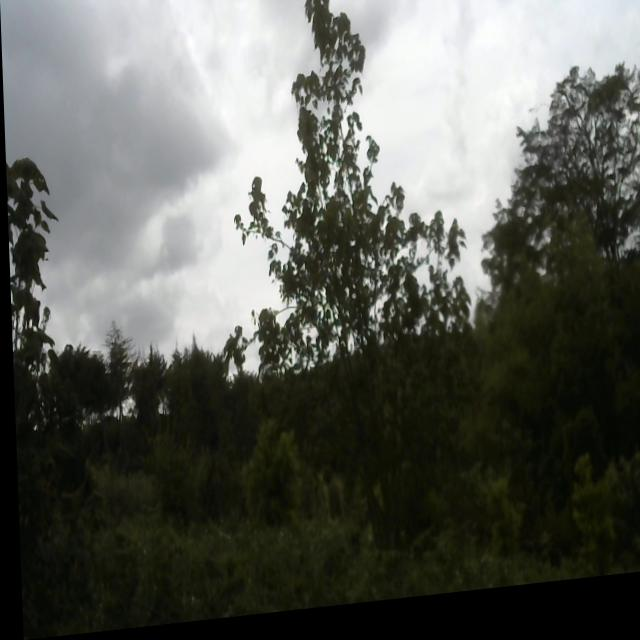cedrus: (49, 332, 106, 443), (121, 338, 168, 436), (101, 320, 131, 437)
other: (221, 0, 472, 592), (5, 147, 67, 390)
